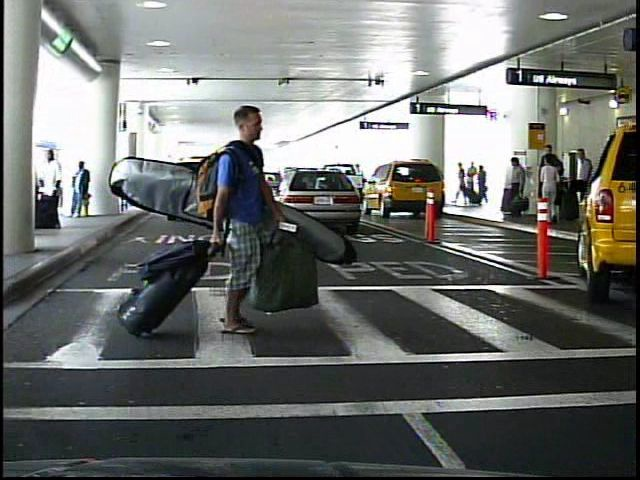person: (210, 98, 300, 355), (32, 146, 66, 231), (569, 145, 595, 222), (69, 158, 97, 225), (539, 144, 561, 220), (540, 155, 563, 225), (505, 158, 528, 221), (455, 160, 469, 208), (467, 161, 479, 208), (476, 162, 487, 206)
